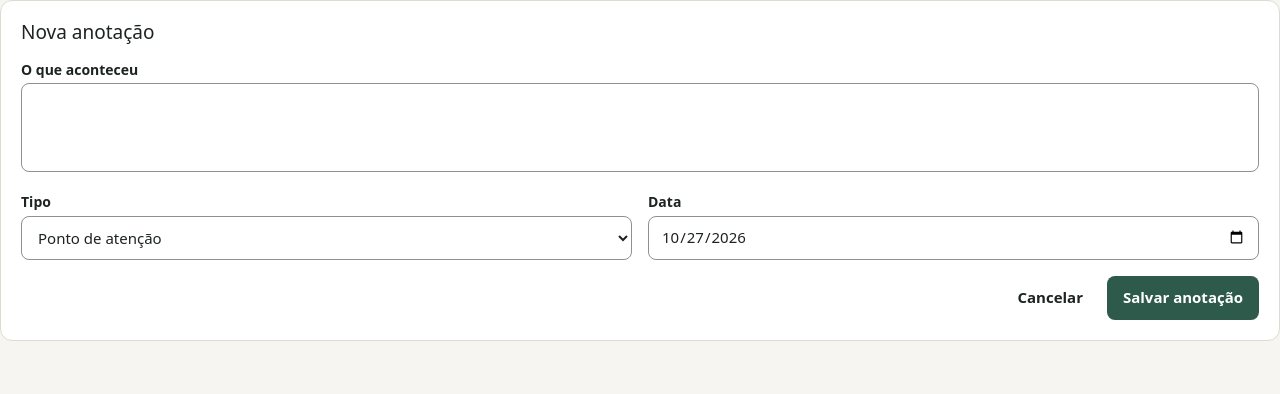
NoteForm › deve avisar quando falta descrever e não salvar
What coordinates should you click on to do the following:
click the button "Salvar anotação"
I would click on:
 (1183, 298)
Its box is [1107,276,1259,320].
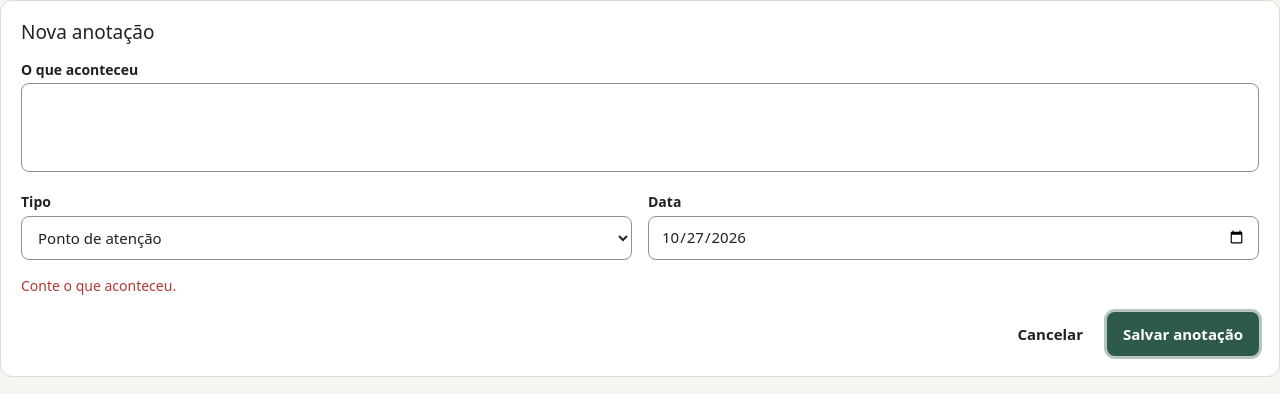
Result: the message shows "Conte o que aconteceu" at [21,276,176,295]
